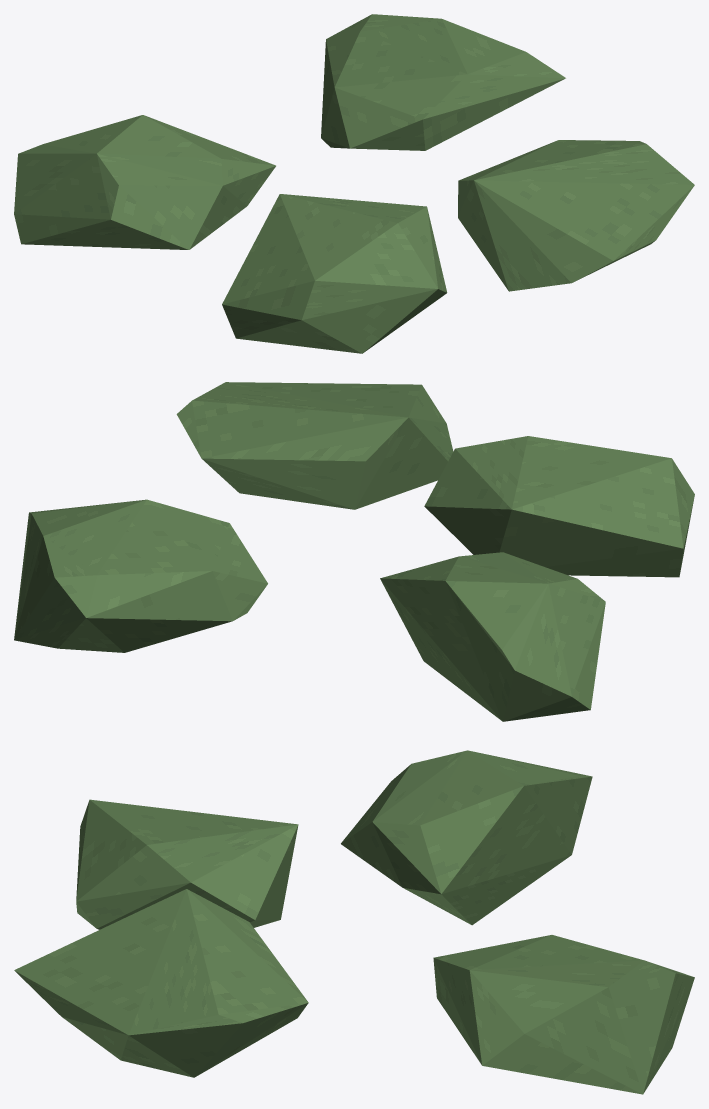
File: dry_veggy.glb
3 renders of one model, top to bottom at view 1: azimuth 30°, elevation 25°; view 2: azimuth 150°, elevation 25°; view 3: azimuth 270°, elevation 25°, orthographic. The views are drawn at different scales.
Visible parts, largest first — view 1: block_dry piece (×4); view 2: block_dry piece (×4); view 3: block_dry piece (×4).
Part boxes in pixels (x1=…): block_dry piece (×4): x1=14, y1=14, x2=694, y2=353; block_dry piece (×4): x1=14, y1=382, x2=694, y2=721; block_dry piece (×4): x1=14, y1=750, x2=694, y2=1094.
Size of the model in its own units: 0.094 by 0.0171 by 0.0915.
Materials: 1 (1 with a texture image).
